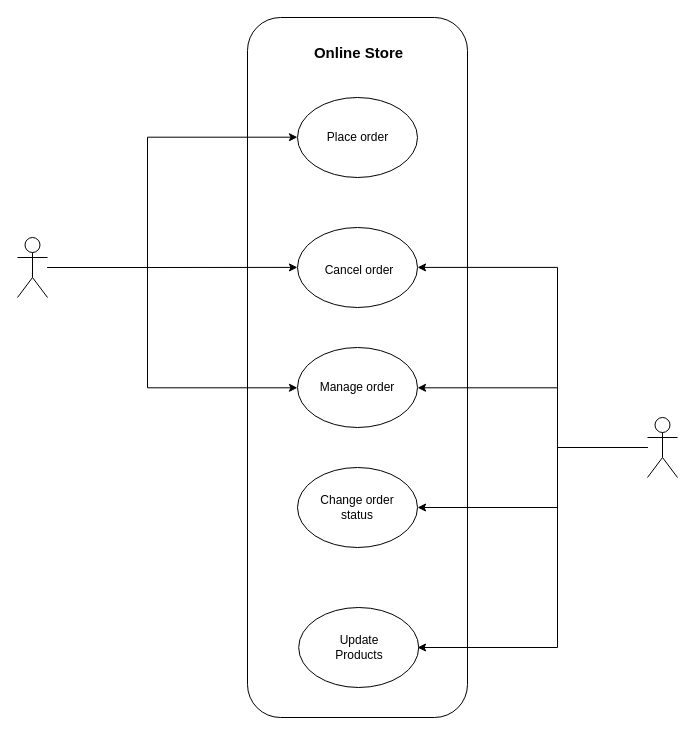
Image size: 697x735. Some labels were removed from this diagram. Here are the shapes that lost their labels. From the top down, the centre of each, then its label:
At point (32, 267): "User".
At point (662, 447): "Admin".
